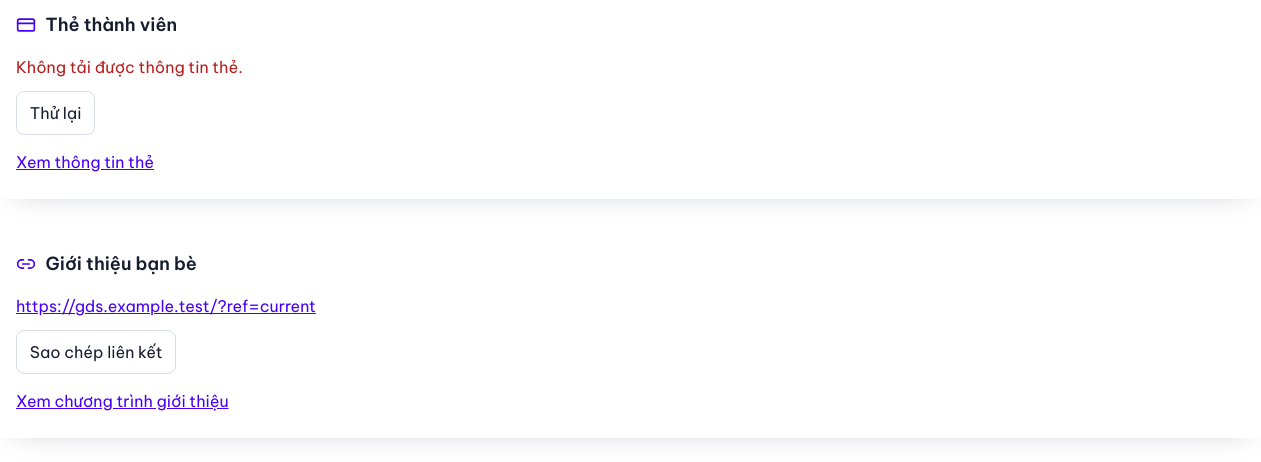
Test: profile membership and referral data › shows an available referral independently of card failure and retries only the failed section
Expected: the message shows "Không tải được thông tin thẻ.", 16,57 -> 243,77
Expected: the link with aria-label "Liên kết giới thiệu của tôi" is shown, 16,296 -> 316,316
Click the button "Thử lại".
click(56, 113)  # box 16,91 -> 95,135
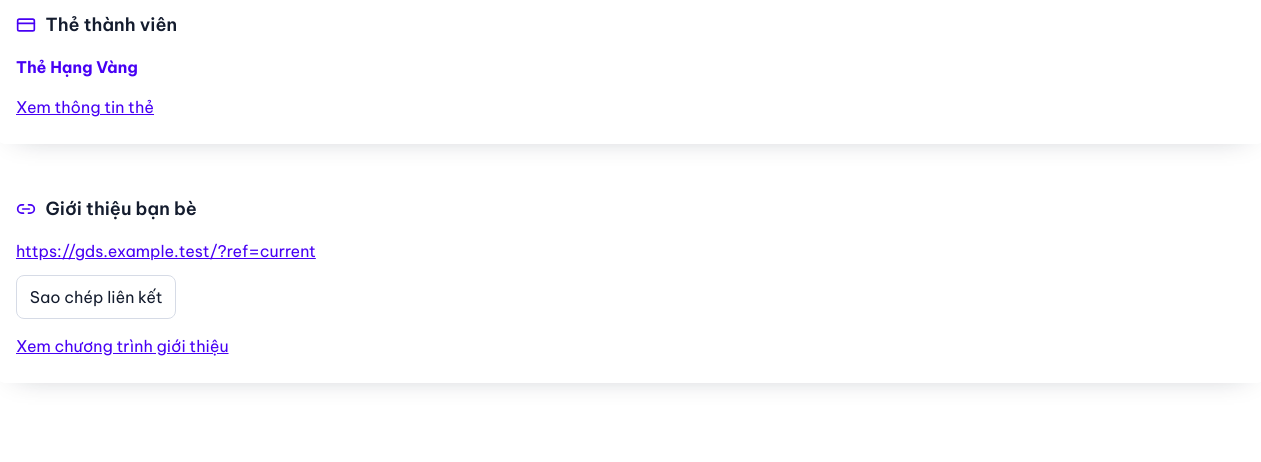
Expected: the text "Thẻ Hạng Vàng" is shown, 16,57 -> 138,77
